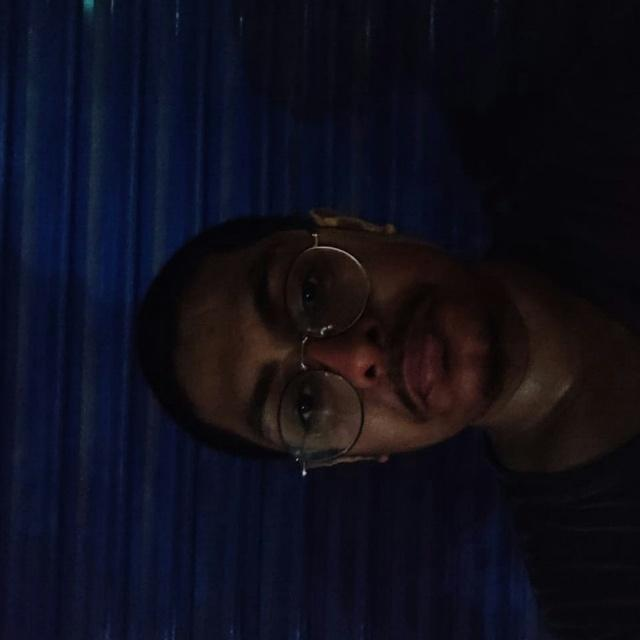Sad: (153, 224, 525, 483)
